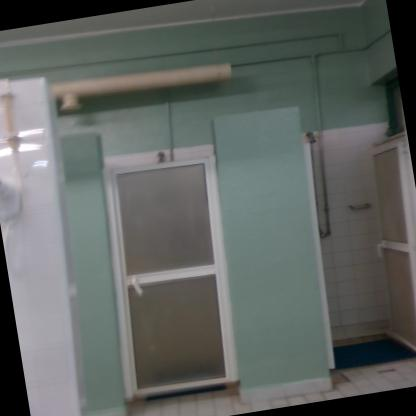closed: (86, 137, 257, 402)
open: (293, 105, 415, 398)
